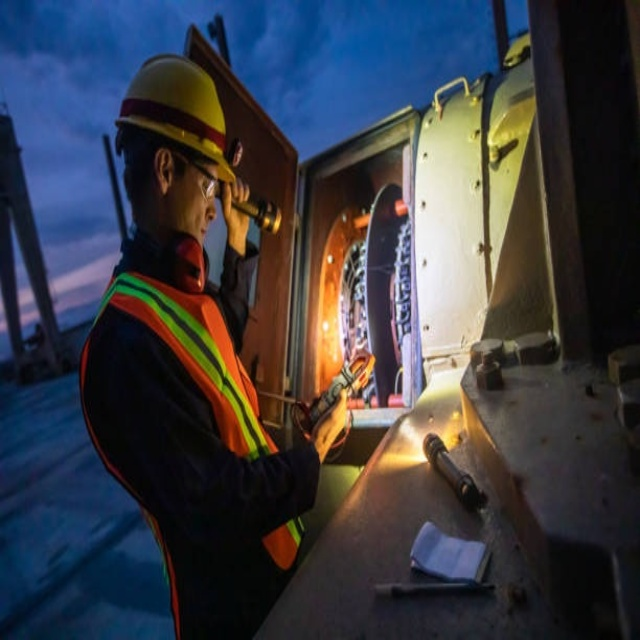Gafas: (167, 151, 221, 202)
Sin_mascara: (196, 216, 214, 245)
